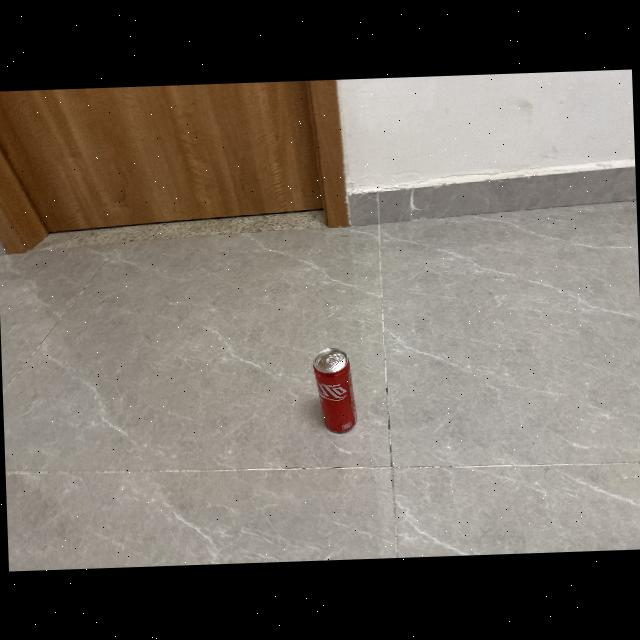Cola: (308, 342, 360, 437)
